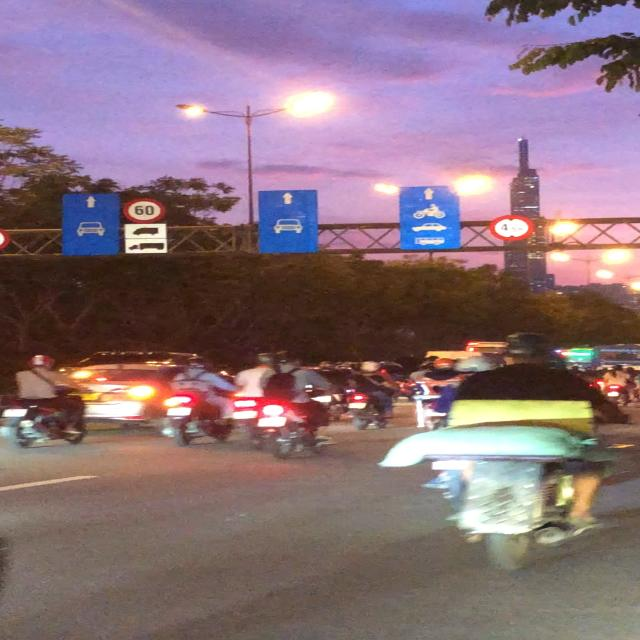Bien bao han che chieu cao: (486, 212, 534, 245)
Bien bao toc do toi da cho phep: (121, 198, 165, 223)
